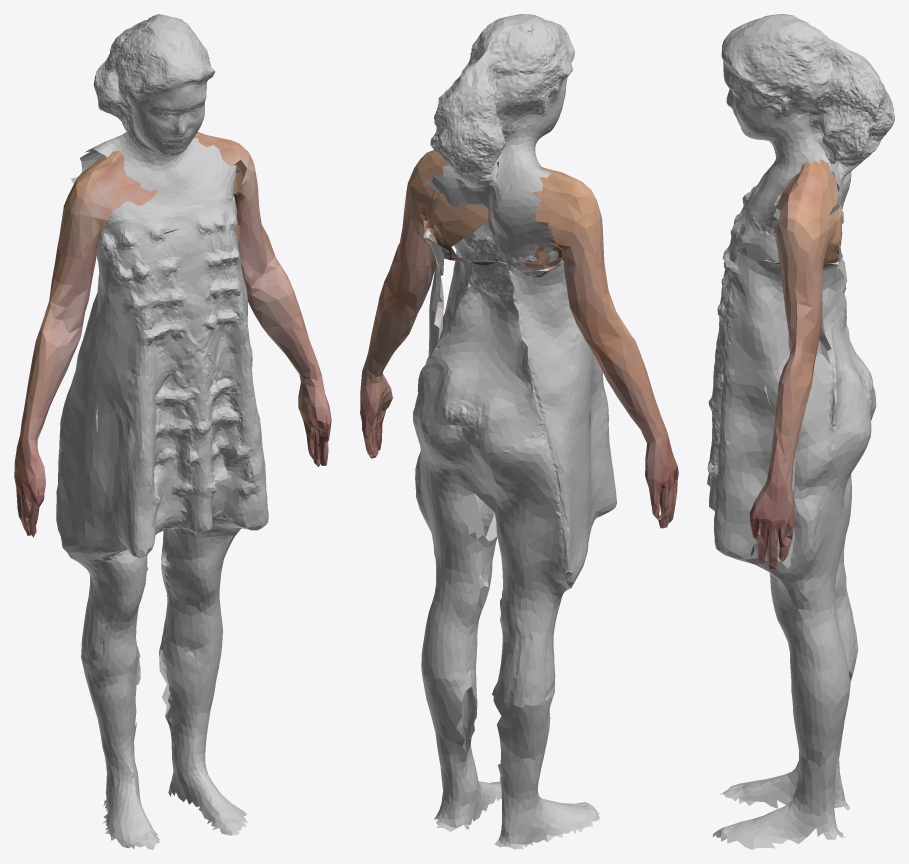
File: outfit5 animated.fbx
The picture shows the model from 3 angles, left to right: view 1: azimuth 30°, elevation 25°; view 2: azimuth 150°, elevation 25°; view 3: azimuth 270°, elevation 25°; orthographic projection.
Parts seen in each view (by area): view 1: Mesh_0, temp; view 2: Mesh_0, temp; view 3: Mesh_0, temp.
Part boxes in pixels (x1=…): Mesh_0: x1=56, y1=14, x2=268, y2=849; temp: x1=14, y1=121, x2=331, y2=537; Mesh_0: x1=413, y1=14, x2=616, y2=849; temp: x1=360, y1=150, x2=678, y2=528; Mesh_0: x1=707, y1=14, x2=894, y2=849; temp: x1=744, y1=159, x2=847, y2=569.
Bounding box in the file's own units: 67.67 × 168 × 35.73.
